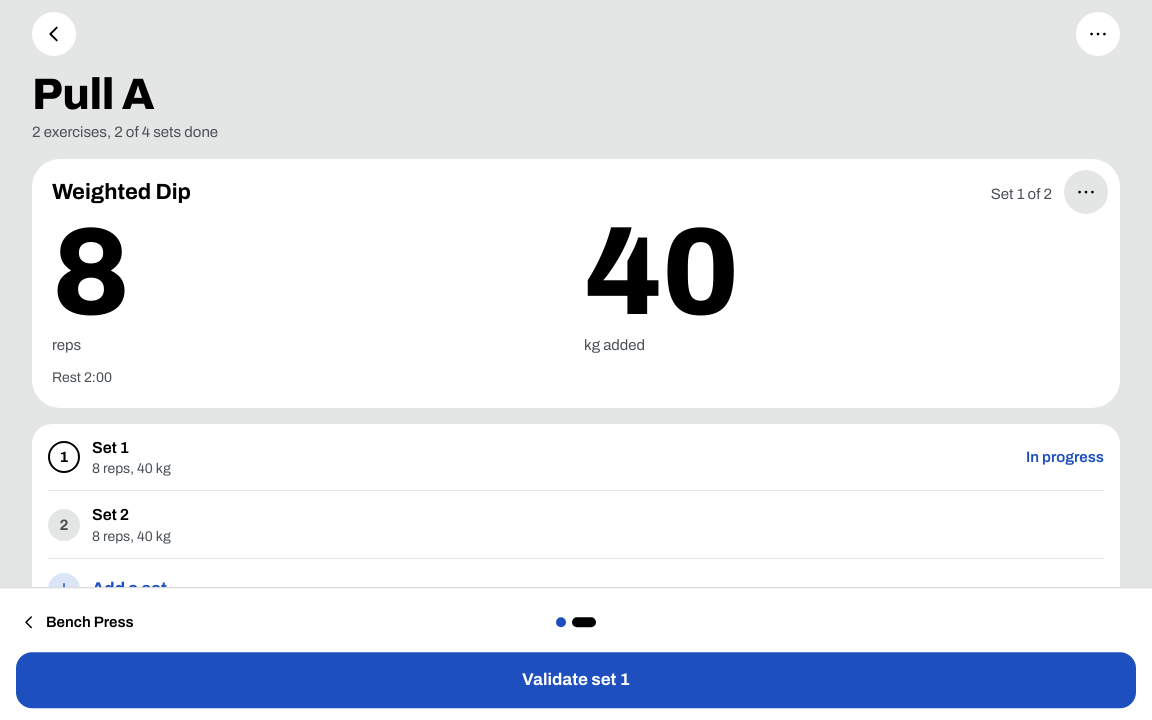
Test case: a session confirmed on a network that is slow to answer › the sheet closes at the tap and the page shows the session as confirmed, without "kept on this device"
expect the text "2 exercises, 2 of 4 sets done" is shown: met, box [32,124,218,140]
Click the button named "Session options".
click(1098, 34)  # box [1076,12,1120,56]
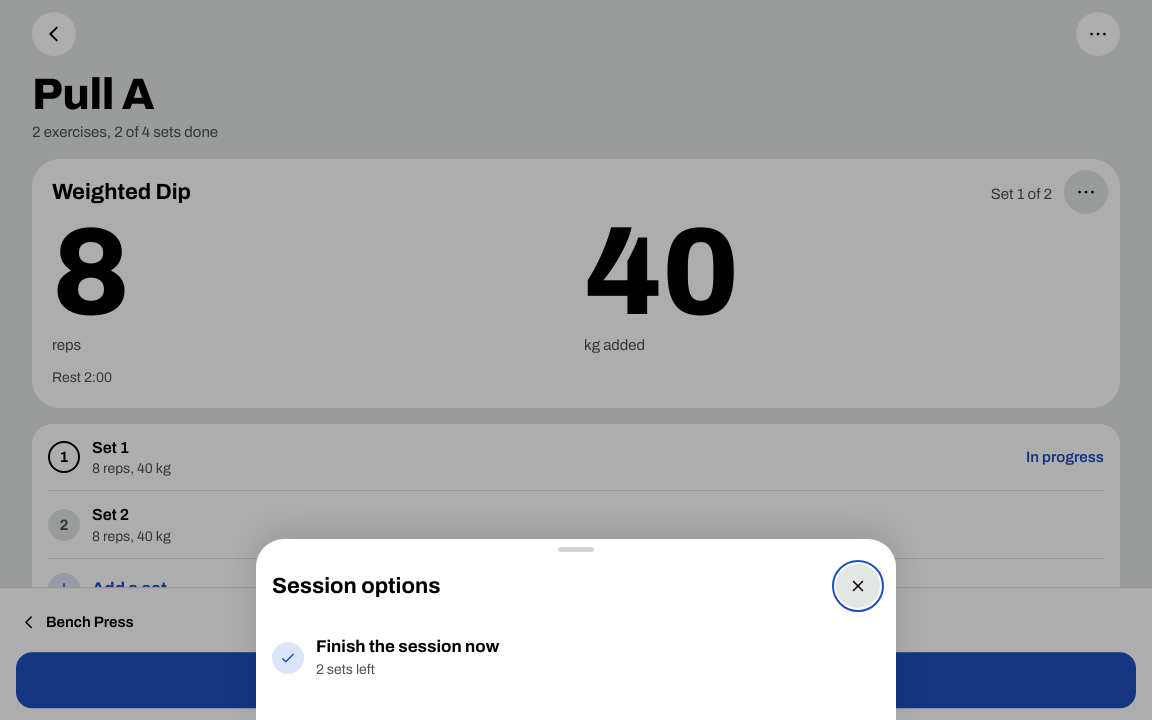
Click the button "Finish the session now 2 sets left".
click(288, 658)  # box [272,624,880,692]
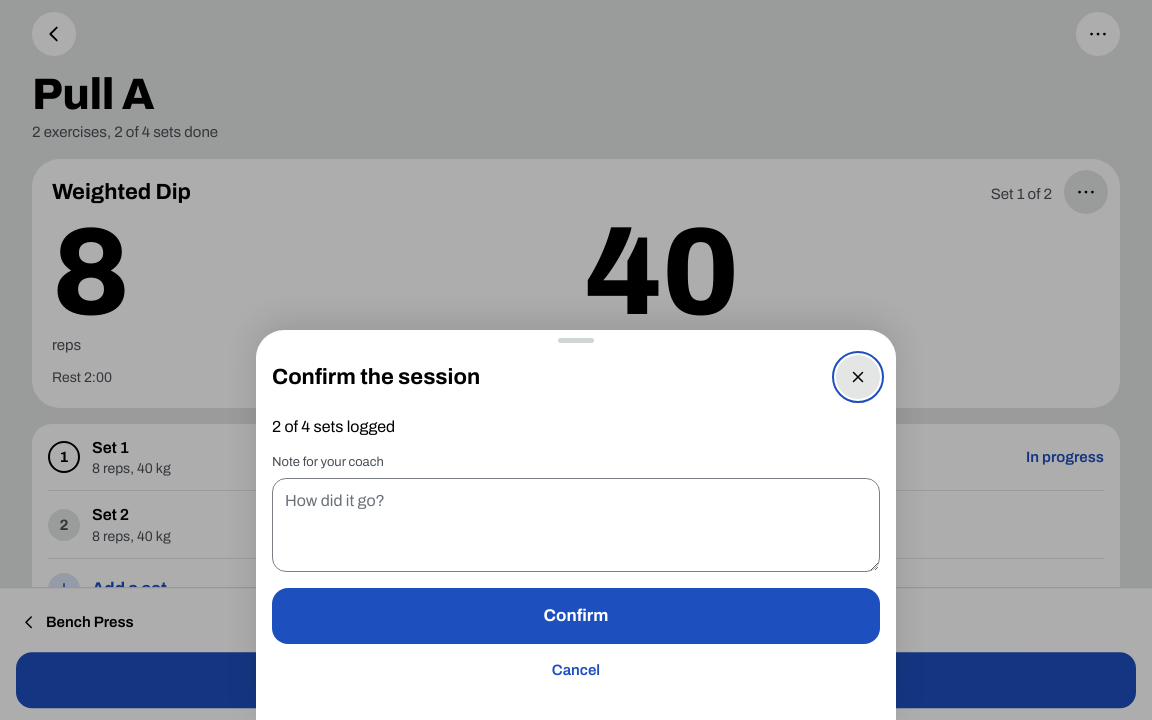
Type "felt strong" into the text box labelled "Note for your coach".
click(576, 525); type("felt strong")  # box [272,478,880,572]
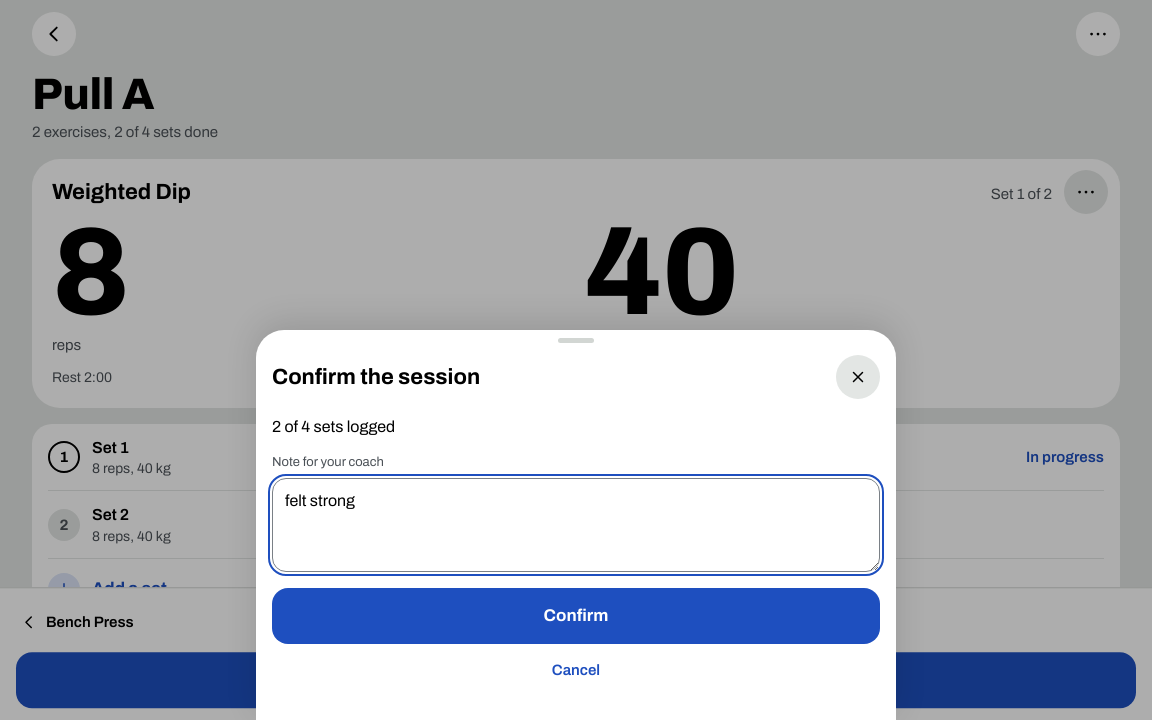
Click the button "Confirm".
click(576, 616)  # box [272,588,880,644]
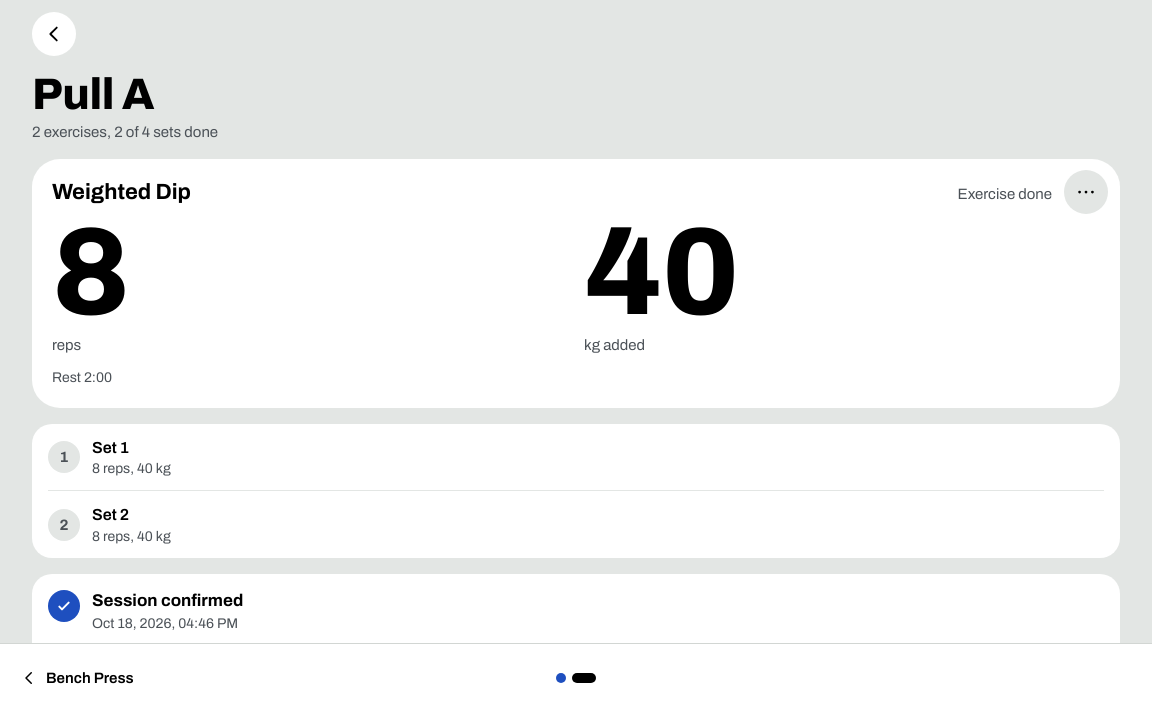
expect the heading "Confirm the session" is gone: met
expect the text "Session confirmed" is shown: met, box [92,591,243,610]
expect the text "felt strong" is shown: met, box [92,643,162,660]
